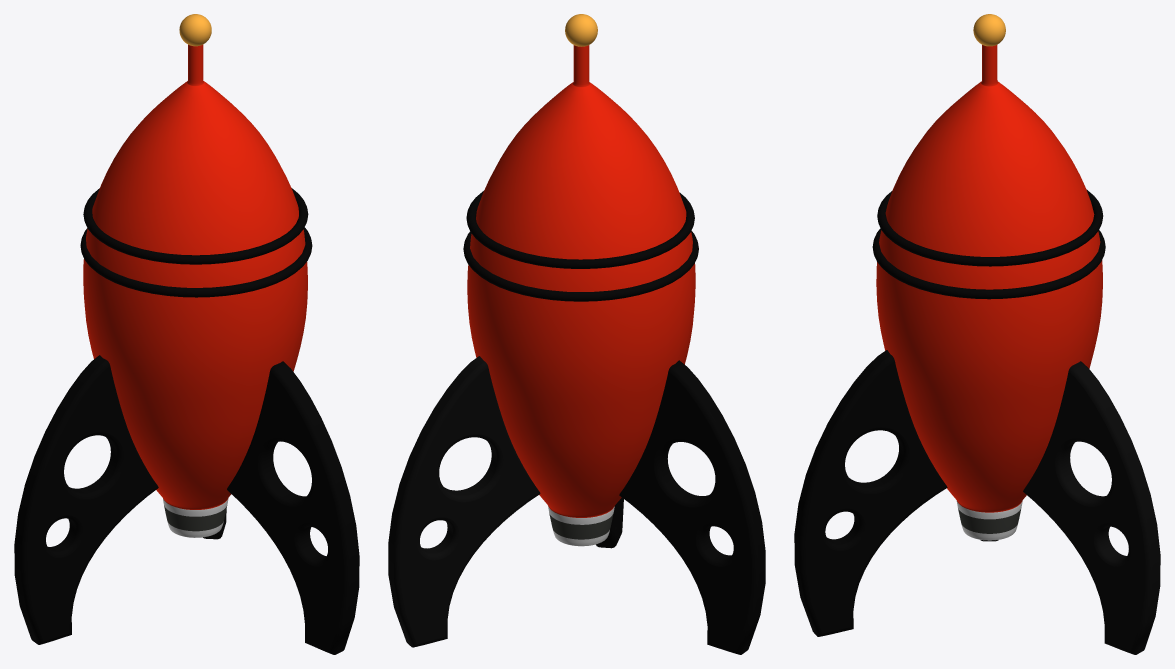
The picture shows the model from 3 angles, left to right: view 1: azimuth 30°, elevation 25°; view 2: azimuth 150°, elevation 25°; view 3: azimuth 270°, elevation 25°; orthographic projection.
Parts seen in each view (by area): view 1: Rocket_base, BezierCurve.001, BezierCurve.002, arus_01, arus_02, point; view 2: Rocket_base, BezierCurve.003, BezierCurve.001, arus_01, arus_02, point, BezierCurve.002; view 3: Rocket_base, BezierCurve.002, BezierCurve.003, arus_01, arus_02, point.
Part boxes in pixels (x1,y1,x2,y2): Rocket_base: (83,44,307,537); BezierCurve.001: (14,355,158,644); BezierCurve.002: (227,361,359,654); arus_01: (83,188,308,264); arus_02: (80,227,312,297); point: (179,14,211,46); Rocket_base: (467,45,695,546); BezierCurve.003: (388,356,540,647); BezierCurve.001: (619,360,765,654); arus_01: (466,191,694,268); arus_02: (463,230,698,301); point: (565,14,597,46); BezierCurve.002: (596,497,623,548); Rocket_base: (876,45,1102,540); BezierCurve.002: (794,350,947,636); BezierCurve.003: (1023,361,1160,654); arus_01: (877,189,1103,266); arus_02: (872,228,1105,299); point: (973,14,1005,46).
Size of the model in its own units: 4.79 by 9.34 by 5.25.
